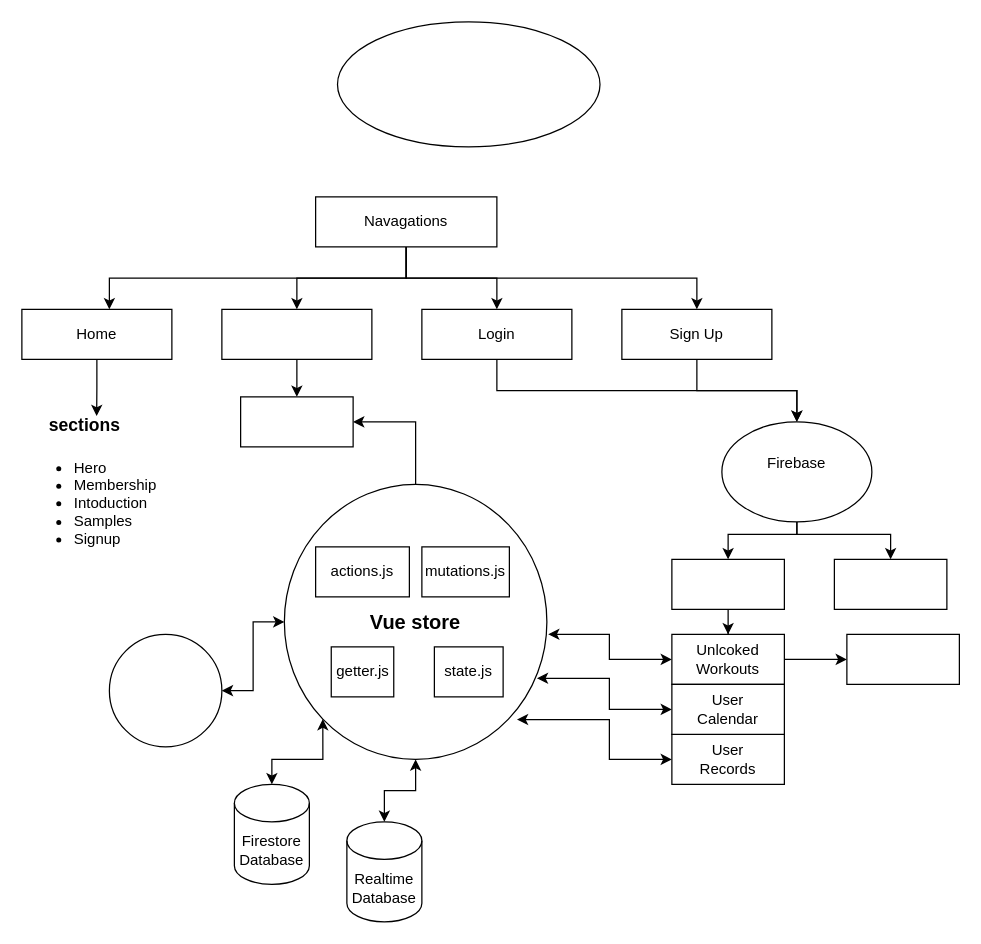
Some shapes in this 981 by 944 pixel diagram are drawn without their labels. Here are the shapes that lost their labels. From the top down, the box of each, then its label:
(336, 21, 600, 147): Workouttracker
(221, 308, 372, 359): Workouts
(239, 396, 353, 447): Workout programs
(671, 558, 784, 609): Dashborad
(833, 558, 947, 609): Sign Out
(846, 633, 959, 684): workouts calendar/vedios
(108, 633, 222, 747): workout datas workouts.js (local file)
